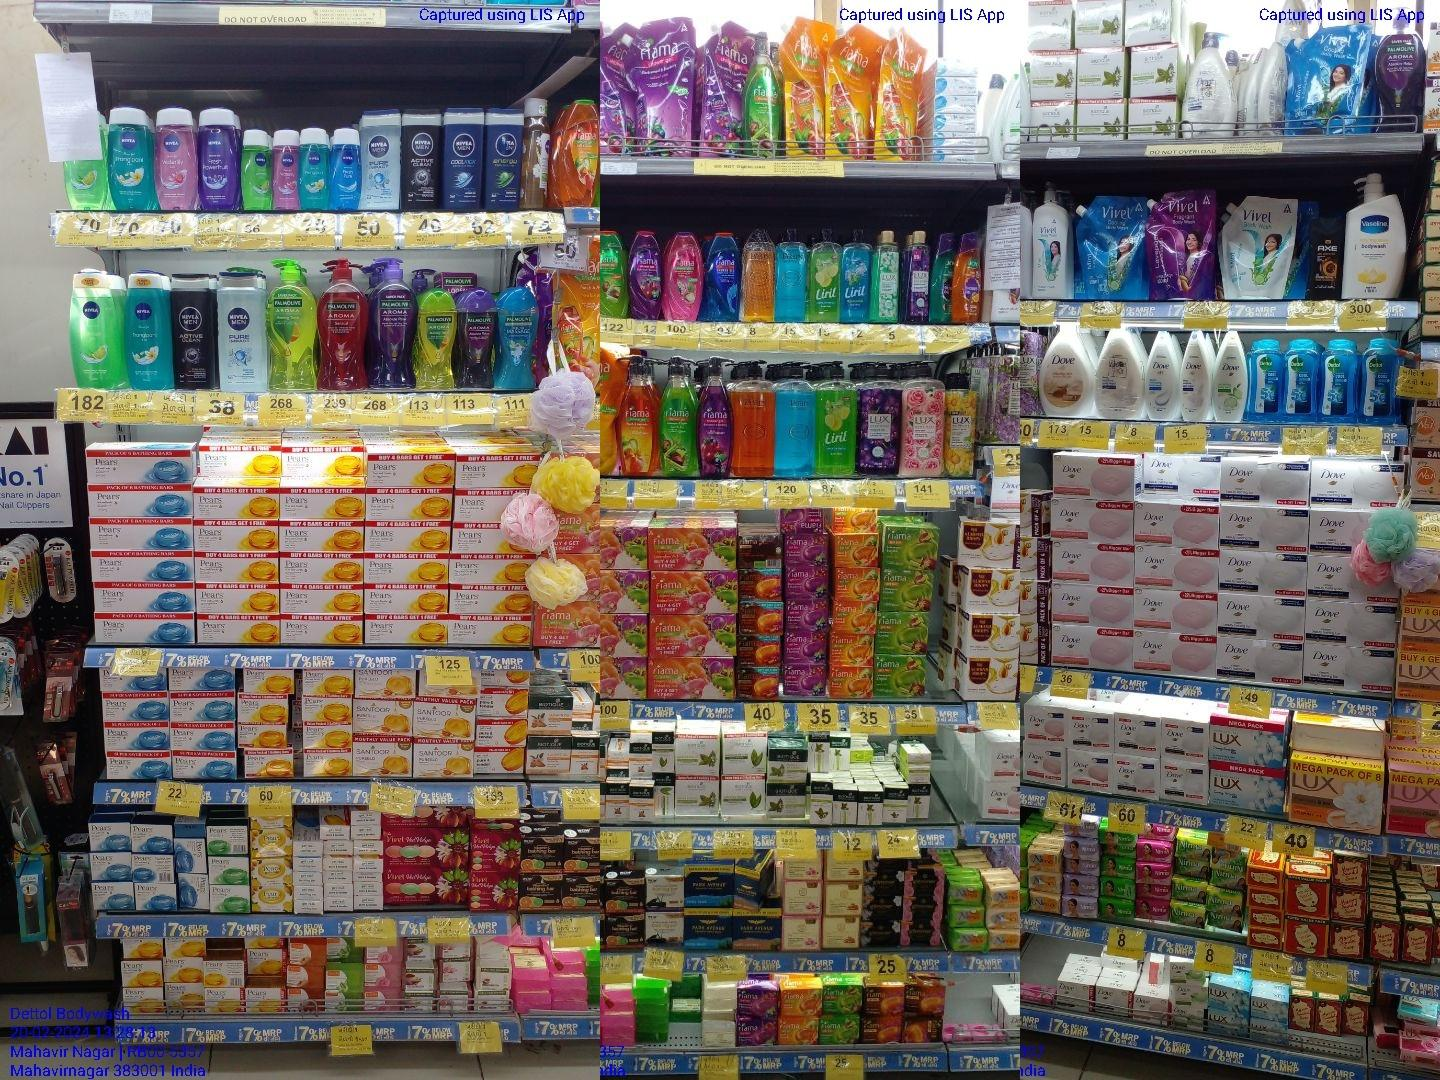Dettol_Bodywash_Cool: (1320, 339, 1356, 423), (1362, 340, 1397, 424), (1285, 339, 1319, 424), (1248, 340, 1282, 422)
Dove_Deep_Moisture_Body_Wash_250ML: (1178, 335, 1209, 423)
Dove_Gentle_Exfoliating_Body_Wash_250ML: (1143, 331, 1175, 422)
Dove_Refreshing_Body_Wash_250ML: (1213, 334, 1247, 424)
Fiama_Shower_Gel_Lemongrass_and_Jojoba_250ML: (601, 228, 628, 318)
Fiama_Shower_Gel_Patchouli_and_Macadamia_250ML: (663, 233, 702, 321)
Fiama_Shower_Gel_Peach_and_Avocado_250ML: (561, 100, 599, 206)
Joy_Shower_Gel_Mandarin_and_Lemongrass_250ML: (954, 233, 982, 322)
Liril_Lime_and_Tea_Tree_Oil_Body_Wash_250ML: (807, 233, 838, 323)
Lux_Black_Orchid_Scent_and_Juniper_Oil_Body_Wash_245ML: (903, 230, 930, 323)
Lux_Body_Wash_Skin_Detox_Freesia_Scent_and_Alove_Vera_245ML: (841, 228, 871, 323), (874, 229, 898, 324)
Nivea_Shower_Gel_Frangipani_and_Oil_250ML: (107, 103, 154, 214), (130, 269, 169, 387)
Nivea_Shower_Gel_Fresh_Powerfruit_250ML: (201, 108, 240, 211)
Nivea_Shower_Gel_Lemon_and_Oil_250ML: (71, 275, 126, 389)
Nivea_Shower_Gel_Waterlily_and_Oil_250ML: (156, 108, 197, 212)
Palmolive_Aroma_Moments_Feel_The_Massage_Shower_Gel_250ML: (497, 287, 537, 391)
Palmolive_Aroma_Morning_Tonic_Shower_Gel_250ML: (418, 292, 457, 391)
Palmolive_Aroma_Relax_250ML: (457, 290, 492, 388)
